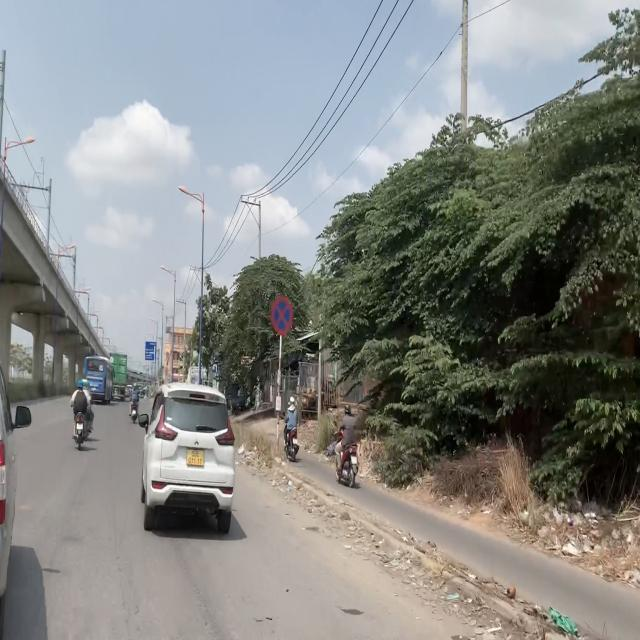Cam dung va do: (270, 295, 294, 337)
